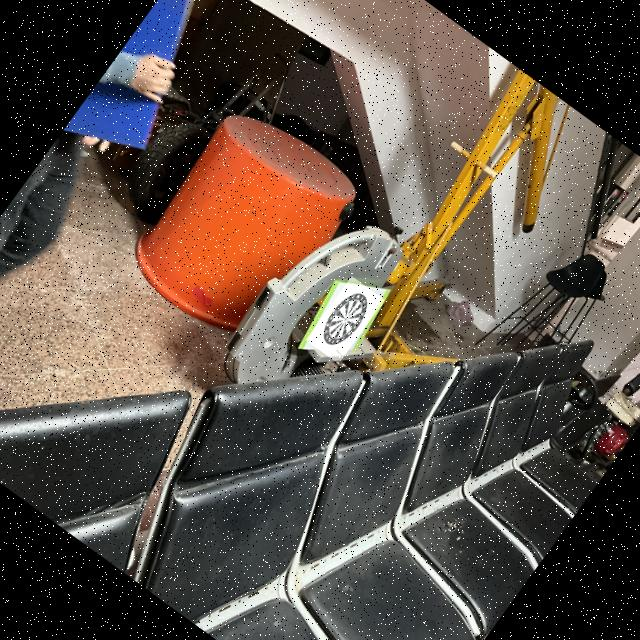archery-targets: (305, 276, 384, 364)
